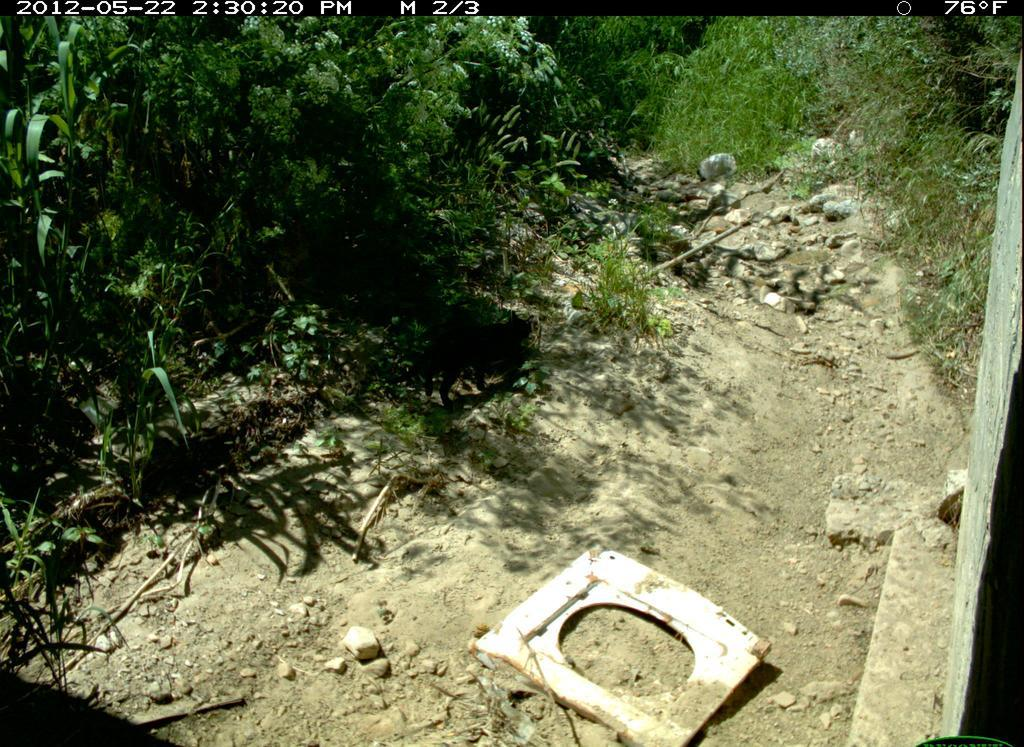cat: (387, 303, 546, 418)
